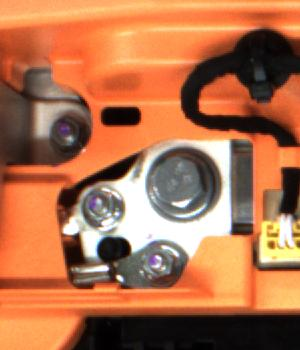nut_b: (146, 146, 229, 227)
screw_s: (127, 241, 186, 286), (41, 113, 87, 154), (84, 188, 120, 228)
